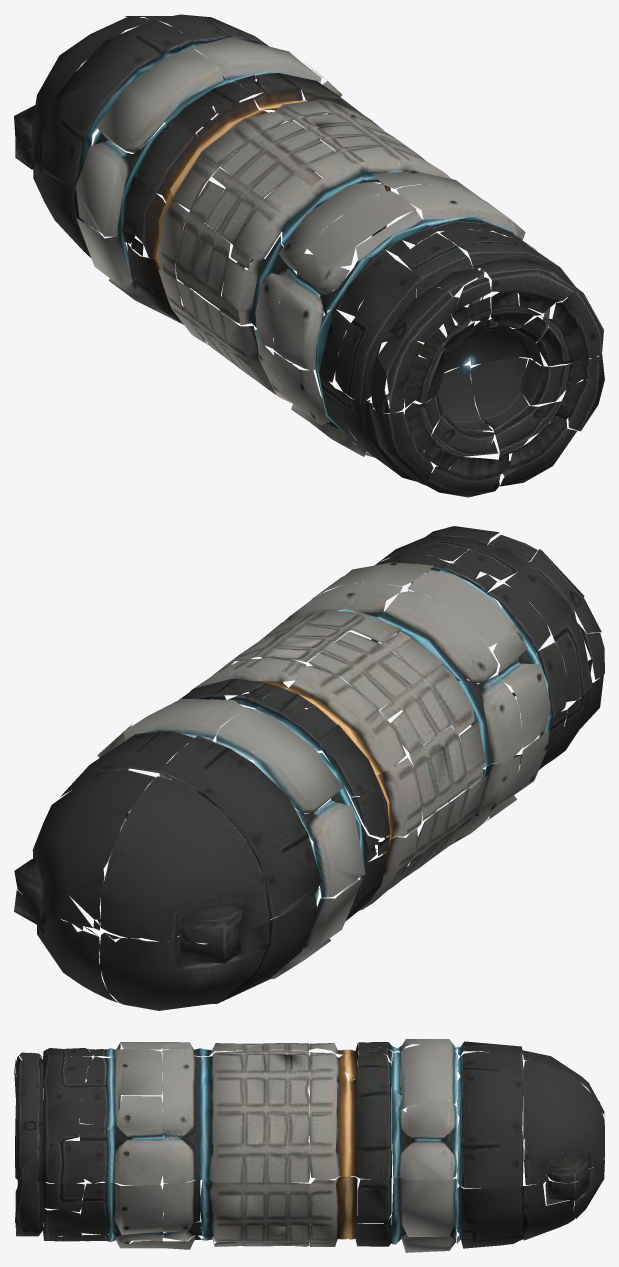
The model's file is em40g_grenade.glb.
3 views of the same model, one above another, from view 1: azimuth 30°, elevation 25°; view 2: azimuth 150°, elevation 25°; view 3: azimuth 270°, elevation 25° (orthographic). The views are drawn at different scales.
Visible parts, largest first — view 1: node_e8eeb882-85b2-41b9-90e8-1e530f665ef1; view 2: node_e8eeb882-85b2-41b9-90e8-1e530f665ef1; view 3: node_e8eeb882-85b2-41b9-90e8-1e530f665ef1.
Part boxes in pixels (box(x1,y1,x2,y2)): node_e8eeb882-85b2-41b9-90e8-1e530f665ef1: box(14, 14, 604, 497); node_e8eeb882-85b2-41b9-90e8-1e530f665ef1: box(14, 526, 604, 1010); node_e8eeb882-85b2-41b9-90e8-1e530f665ef1: box(14, 1039, 604, 1252).
Bounding box in the file's own units: 0.0756 × 0.0727 × 0.2004.
1 material, 1 textured.
